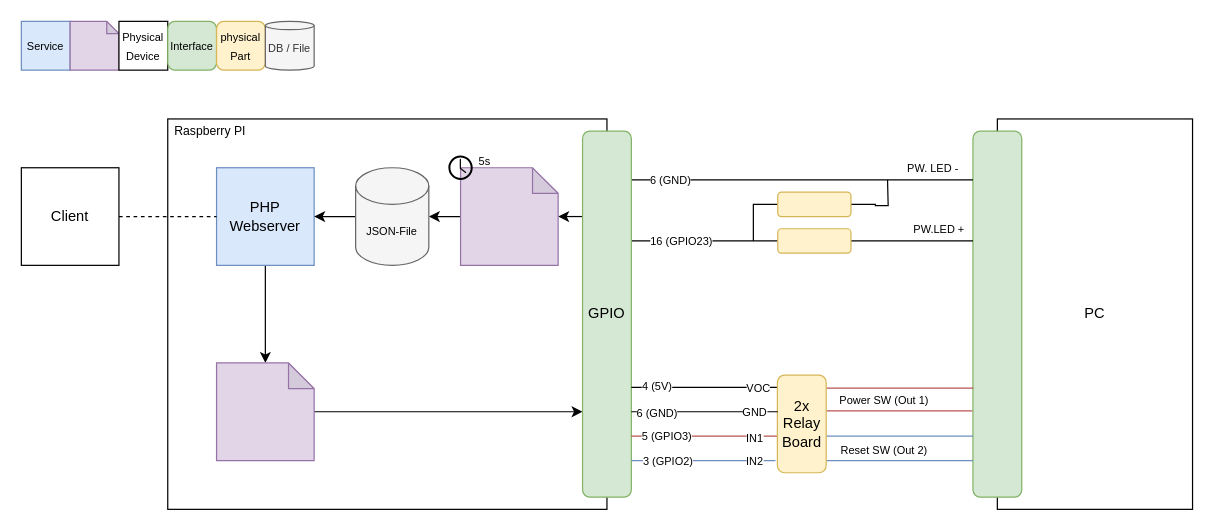
The diagram is 1214 pixels wide and 531 high, and some of its shapes have lost their labels. The shapes that lost their labels are listed below. From the top down, each one's box as (x1, y1, x2, y2) in pixels, then its label:
(69, 20, 119, 70): script
(459, 167, 558, 265): isUp.py
(777, 191, 851, 217): 10k Ω
(777, 228, 851, 253): 1k Ω
(972, 130, 1022, 497): Front I/O
(215, 362, 314, 461): power.py
